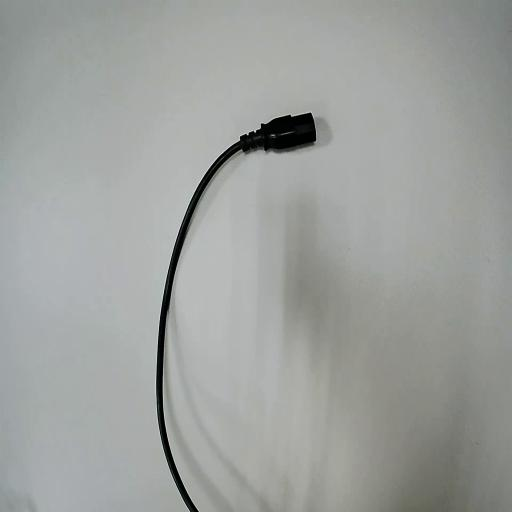wire: (157, 114, 315, 511)
